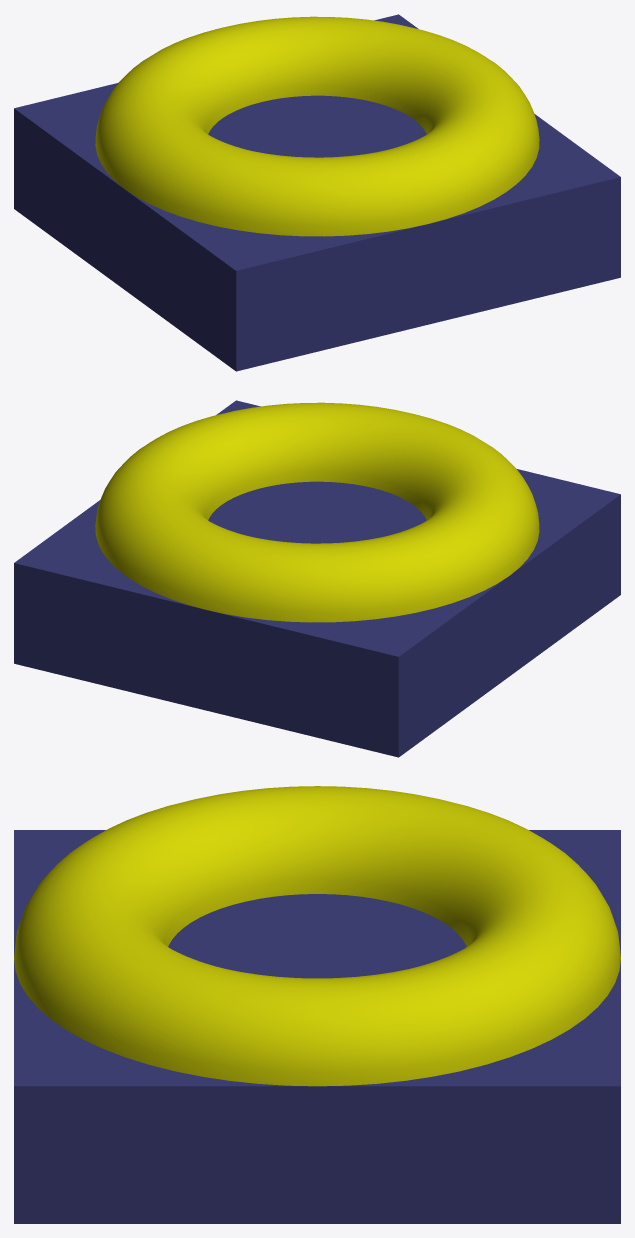
File: pedestal.gltf
The picture shows the model from 3 angles, top to bottom: view 1: azimuth 30°, elevation 25°; view 2: azimuth 150°, elevation 25°; view 3: azimuth 270°, elevation 25°; orthographic projection. The views are drawn at different scales.
Visible parts, largest first — view 1: Pedestal2; view 2: Pedestal2; view 3: Pedestal2.
Part boxes in pixels (x1,y1,x2,y2): Pedestal2: [14, 14, 620, 371]; Pedestal2: [14, 400, 620, 757]; Pedestal2: [14, 786, 620, 1223].
Bounding box in the file's own units: 2 × 0.75 × 2.
